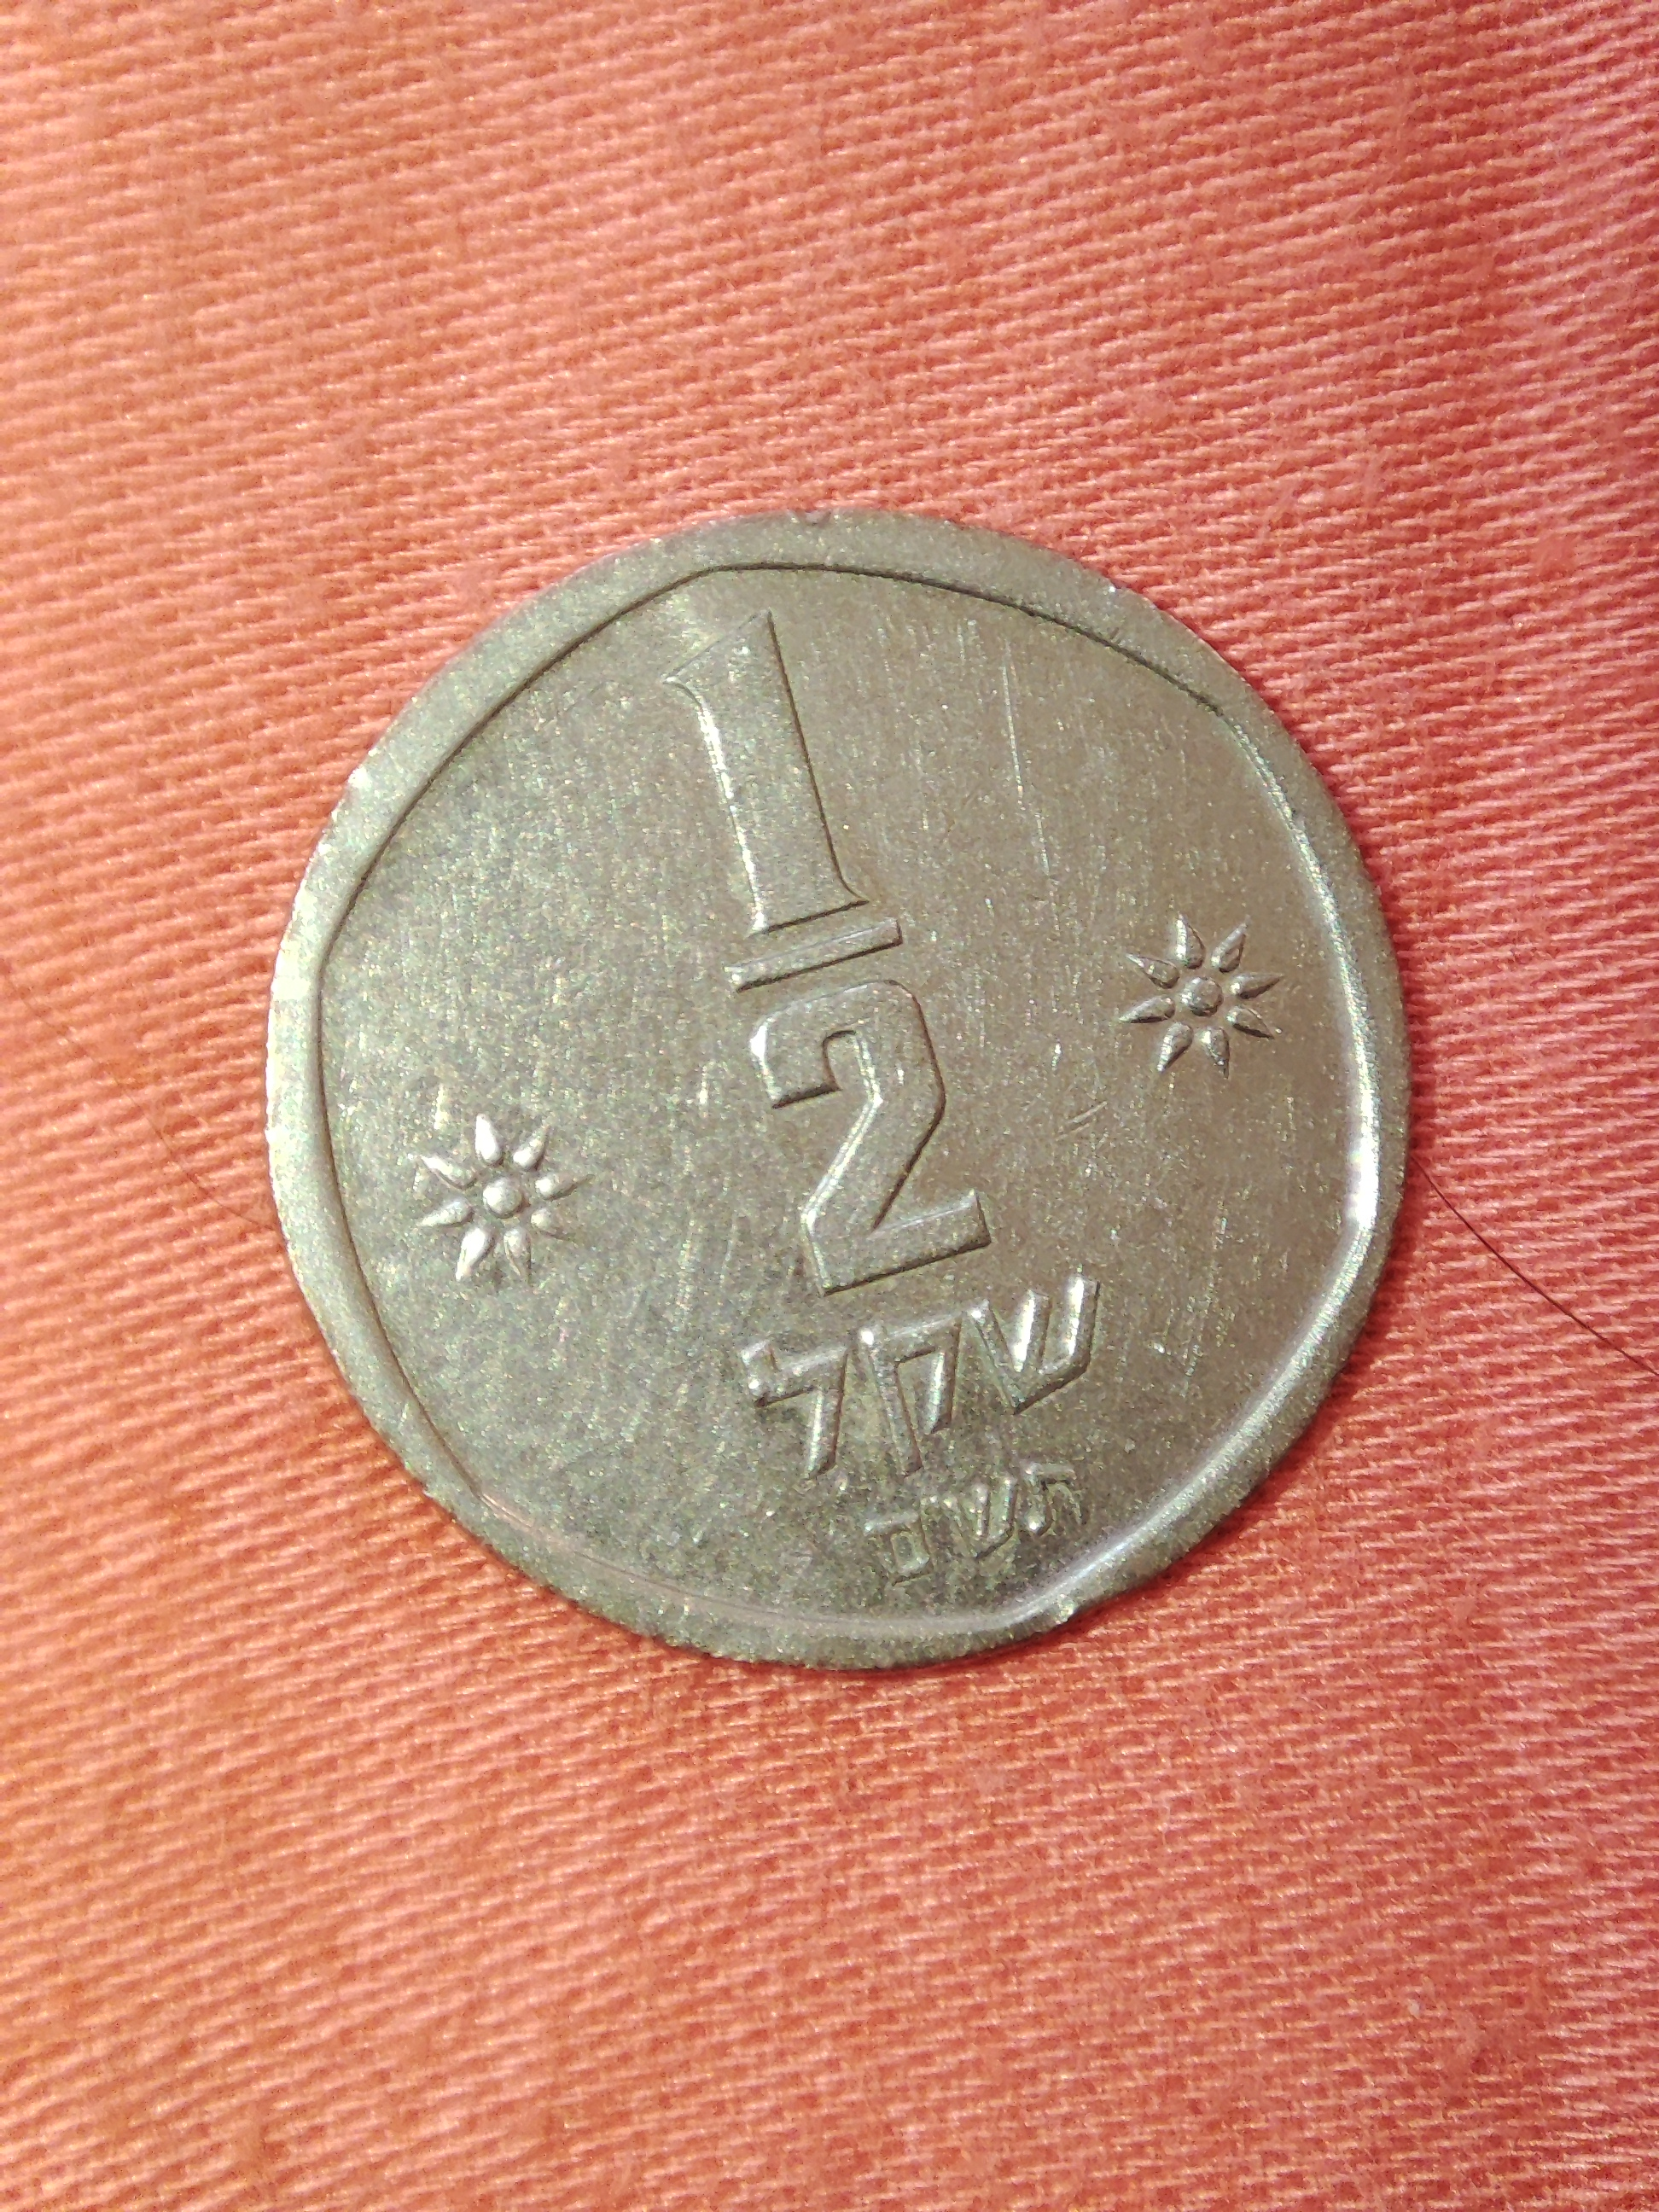1/2 old sheqel: (253, 493, 1424, 1702)
